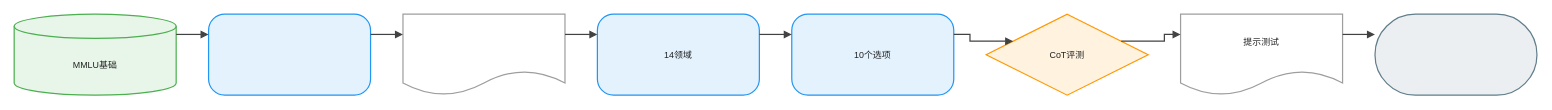
Some shapes in this 1552 by 110 pixel diagram are drawn without their labels. The shapes that lost their labels are listed below. From the top down, each one's box as (x1, y1, x2, y2) in pixels, then its label:
(208, 13, 371, 95): 新增来源
(402, 13, 565, 95): 过滤噪声
(1374, 13, 1537, 95): 准确率
